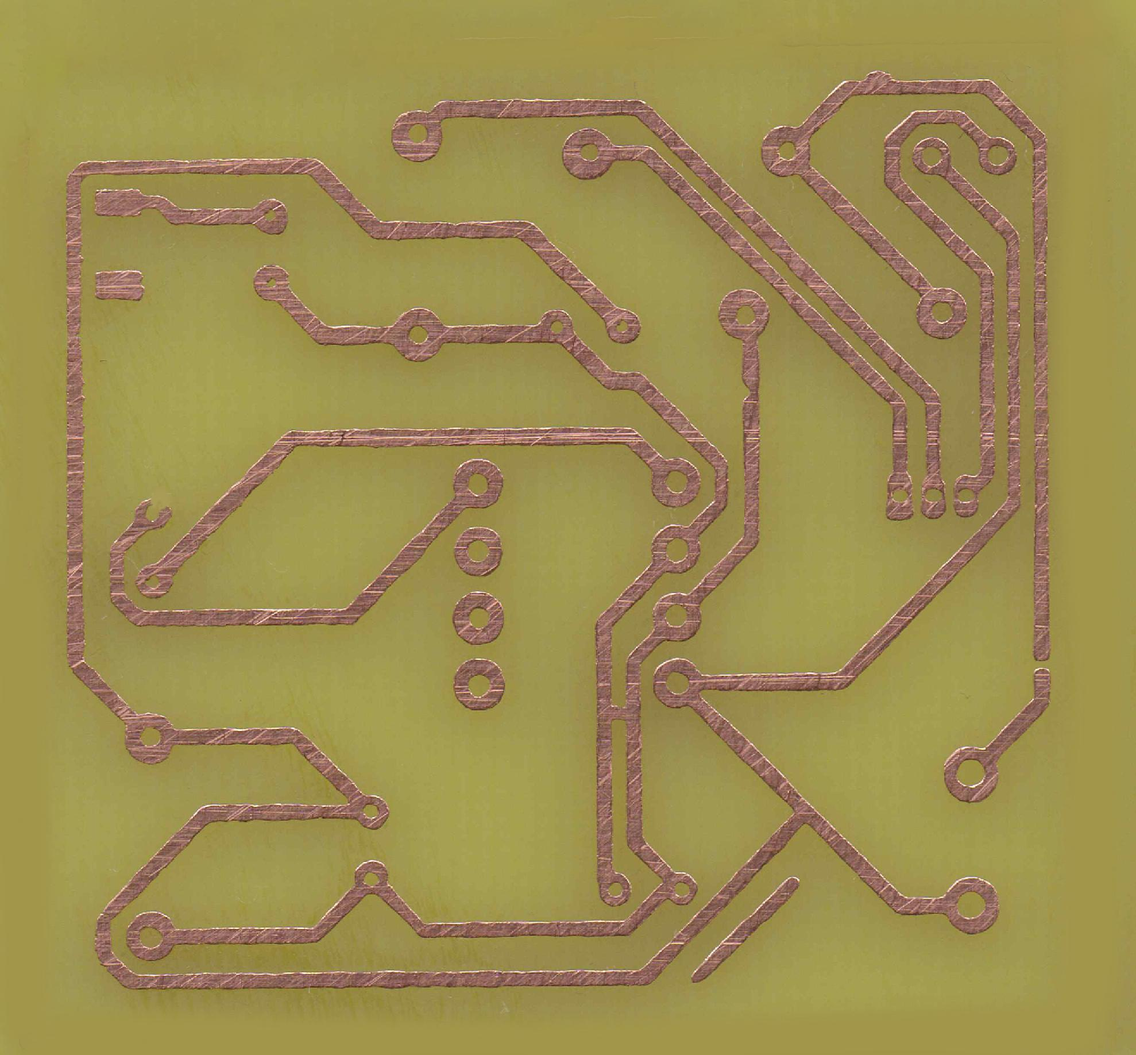missing_hole: (133, 491, 175, 532)
mouse_bite: (737, 379, 766, 411)
open_circuit: (1027, 653, 1057, 681)
short: (594, 695, 644, 729)
spur: (863, 66, 899, 100)
spurious_copper: (687, 873, 808, 992)
